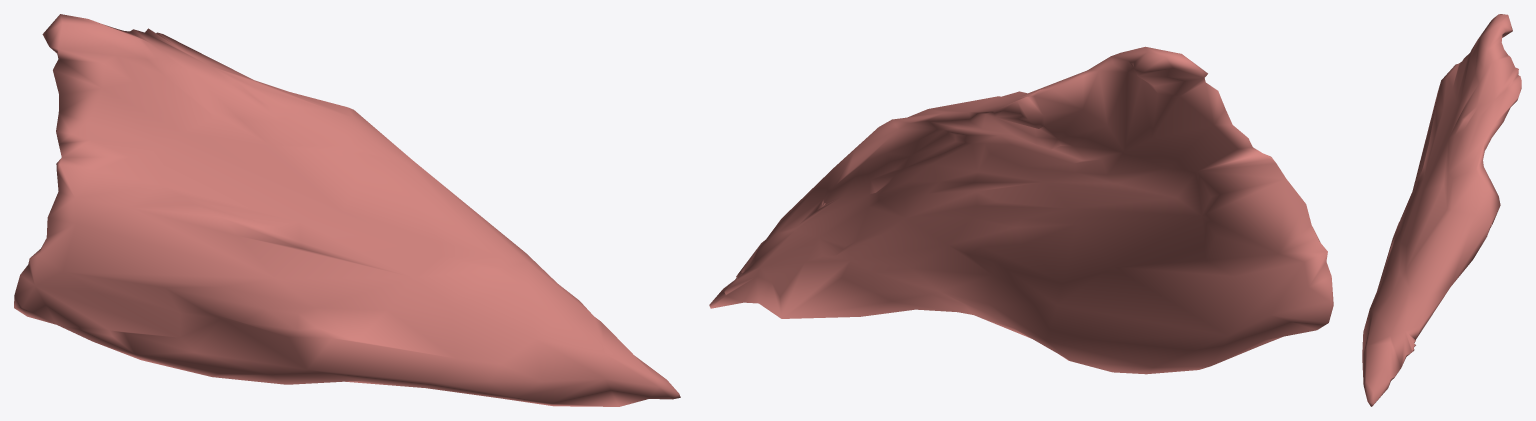
The picture shows the model from 3 angles, left to right: view 1: azimuth 30°, elevation 25°; view 2: azimuth 150°, elevation 25°; view 3: azimuth 270°, elevation 25°; orthographic projection. The views are drawn at different scales.
Visible parts, largest first — view 1: ZA_497404d921a2023c; view 2: ZA_497404d921a2023c; view 3: ZA_497404d921a2023c.
Boxes of the visible parts, x1,y1,x2,y2 form: ZA_497404d921a2023c: (14,14,680,406); ZA_497404d921a2023c: (709,46,1333,374); ZA_497404d921a2023c: (1362,14,1521,406).
Size of the model in its own units: 0.0494 by 0.0333 by 0.0194.
